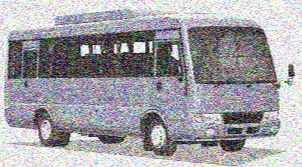bus: (7, 11, 282, 153)
